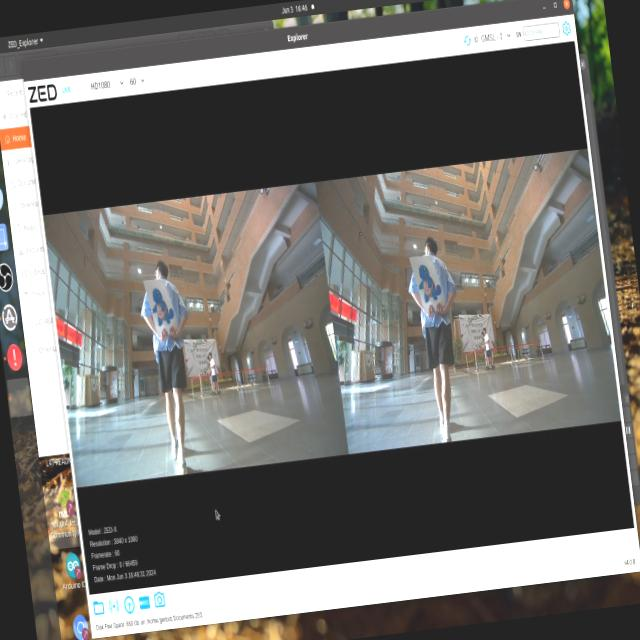blue: (144, 288, 172, 334), (410, 260, 440, 302)
